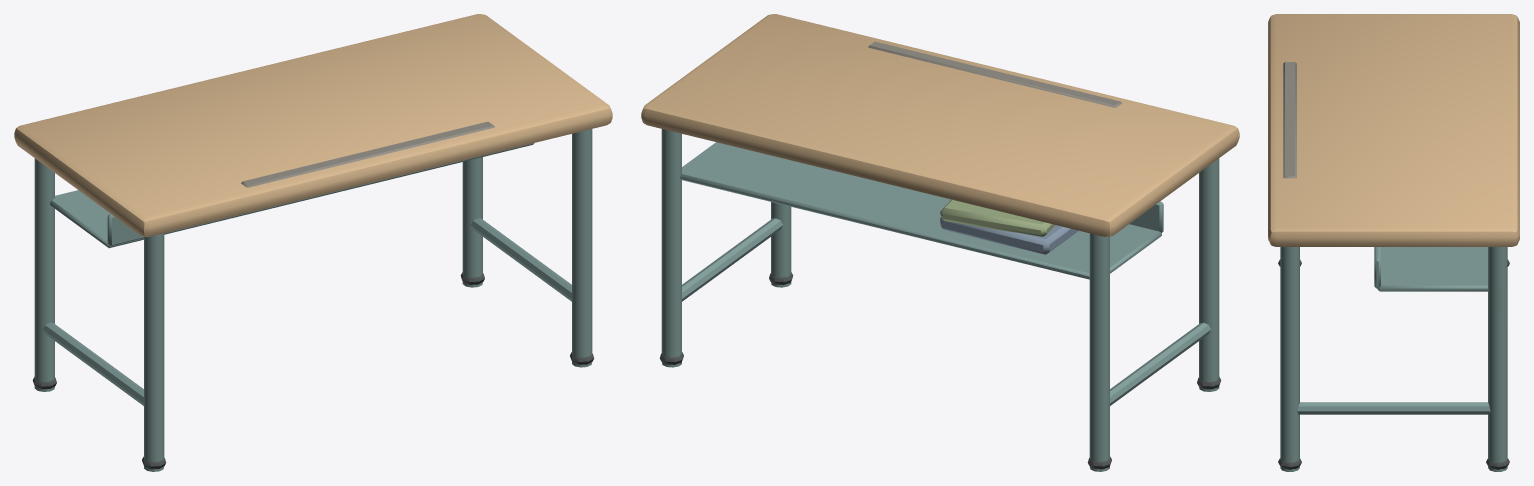
Rendered from class_desk.glb.
The picture shows the model from 3 angles, left to right: view 1: azimuth 30°, elevation 25°; view 2: azimuth 150°, elevation 25°; view 3: azimuth 270°, elevation 25°; orthographic projection. The views are drawn at different scales.
Parts seen in each view (by area): view 1: wood, paint, steel_dark, rubber; view 2: wood, paint, steel_dark, book_c, book_a, rubber; view 3: wood, paint, steel_dark, rubber.
Boxes of the visible parts, box(x1,y1,x2,y2) form: wood: box(14, 14, 612, 236); paint: box(34, 129, 592, 471); steel_dark: box(241, 121, 494, 187); rubber: box(32, 272, 594, 469); wood: box(641, 14, 1239, 236); paint: box(661, 129, 1219, 471); steel_dark: box(868, 41, 1121, 107); book_c: box(940, 199, 1055, 236); book_a: box(940, 217, 1078, 254); rubber: box(659, 272, 1221, 469); wood: box(1268, 14, 1519, 246); paint: box(1280, 247, 1507, 471); steel_dark: box(1283, 62, 1296, 178); rubber: box(1278, 259, 1509, 469).
Bounding box in the file's own units: 0.95 × 0.5042 × 0.46.
